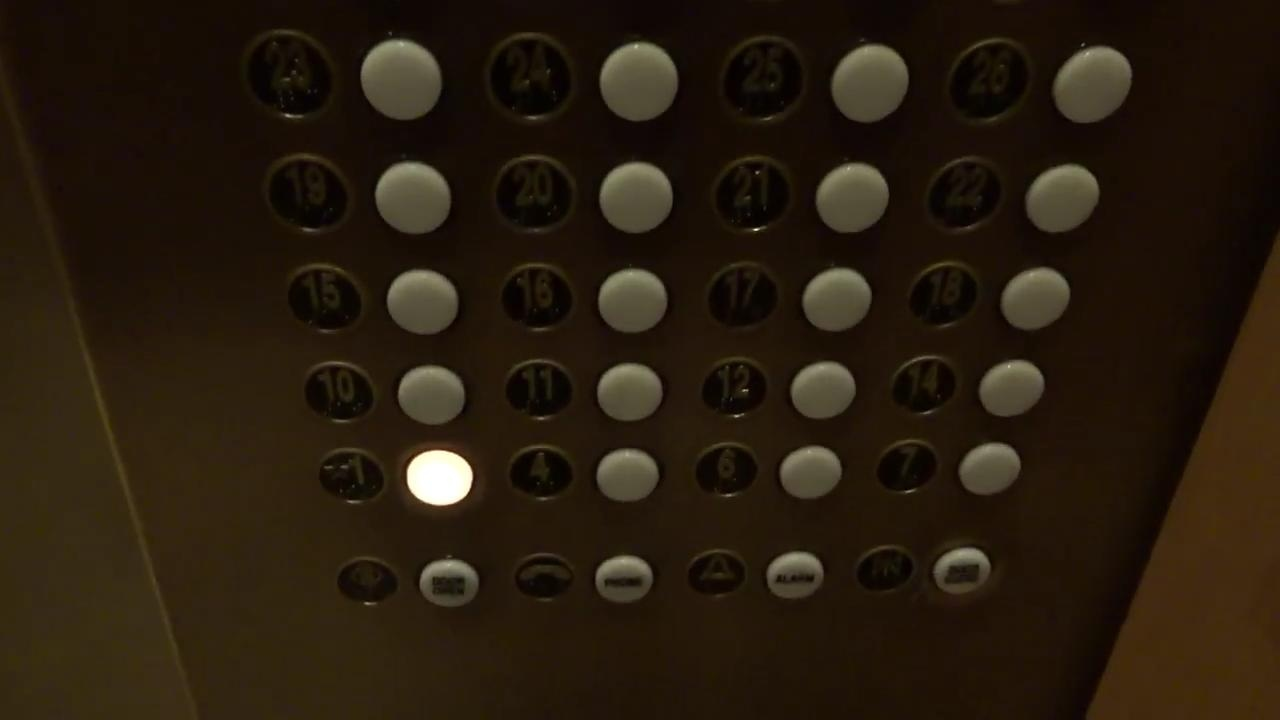10: (300, 359, 380, 427)
11: (506, 359, 581, 424)
12: (701, 353, 770, 419)
14: (888, 355, 960, 419)
15: (281, 262, 368, 335)
16: (498, 264, 579, 334)
17: (700, 258, 784, 334)
18: (905, 260, 985, 334)
19: (264, 155, 355, 242)
20: (489, 156, 578, 233)
21: (709, 155, 796, 237)
22: (922, 155, 1005, 240)
23: (239, 29, 339, 125)
24: (483, 34, 576, 124)
25: (720, 33, 807, 128)
26: (941, 38, 1031, 123)
4: (506, 443, 579, 506)
6: (693, 440, 762, 501)
7: (872, 437, 943, 495)
alarm: (683, 548, 748, 600)
call: (511, 552, 578, 606)
close: (852, 544, 921, 599)
empty: (356, 34, 442, 125), (1050, 43, 1134, 127), (374, 153, 454, 238), (598, 40, 678, 124), (831, 44, 910, 126), (597, 161, 673, 237), (1025, 163, 1103, 235), (816, 161, 891, 234), (383, 268, 460, 336), (995, 265, 1073, 332), (801, 265, 874, 333), (597, 267, 668, 334), (397, 363, 468, 427), (594, 361, 664, 423), (978, 359, 1047, 421), (789, 361, 858, 420), (403, 449, 473, 507), (955, 442, 1025, 497), (593, 447, 659, 504), (779, 443, 842, 501)
open: (336, 556, 402, 609)
s1: (315, 446, 388, 508)
text: (418, 557, 479, 611), (765, 547, 825, 600), (591, 555, 653, 605), (934, 546, 992, 597)
